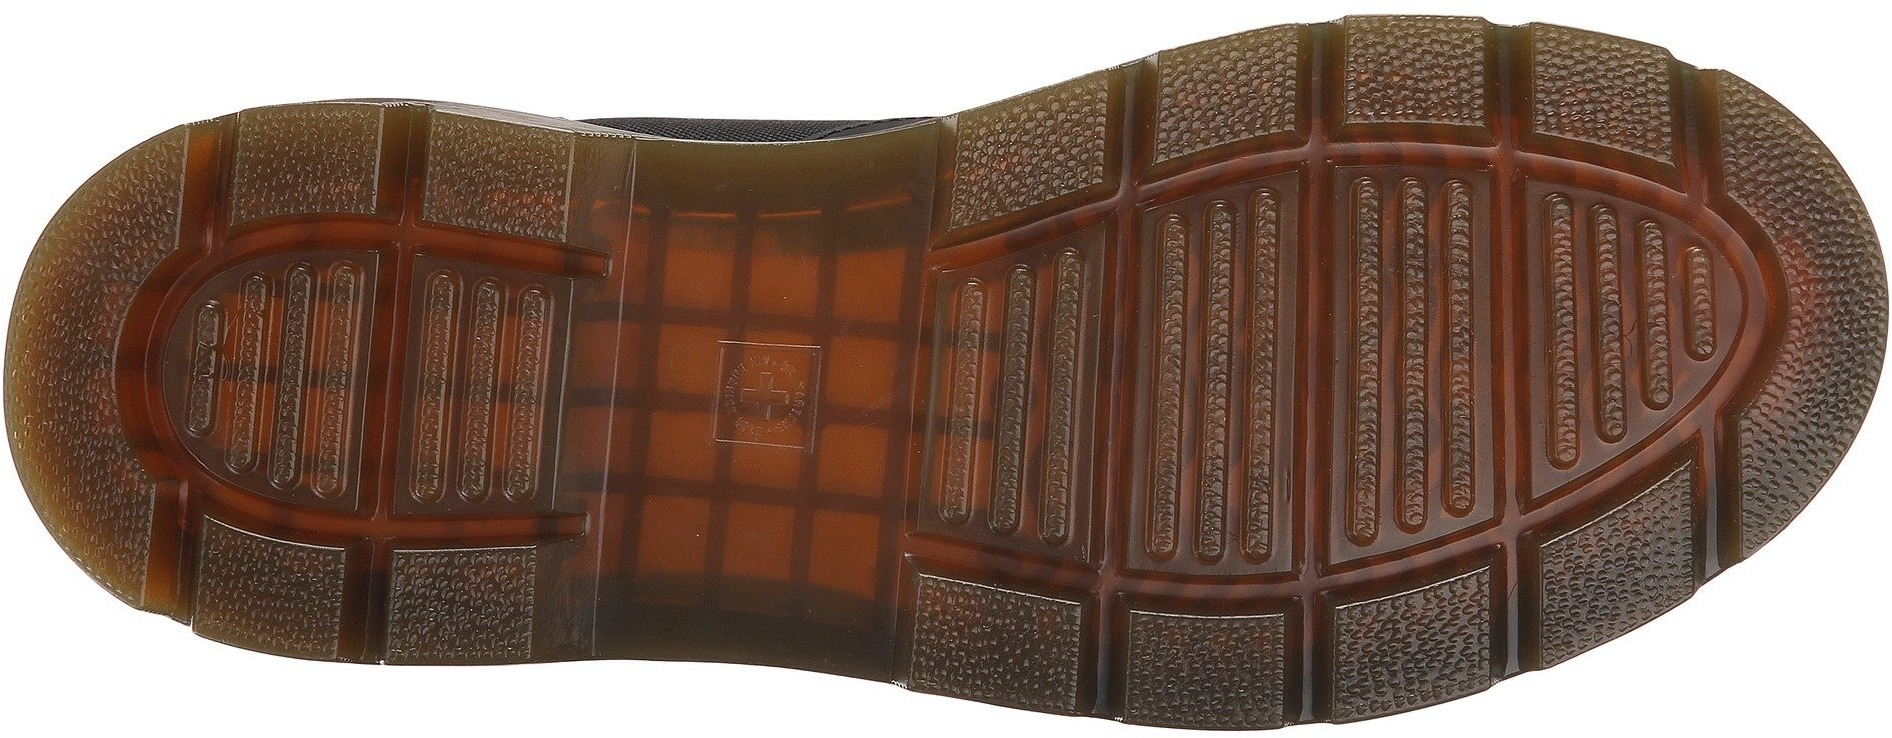line: (1514, 423, 1779, 685), (1531, 213, 1723, 402), (182, 286, 367, 463), (1329, 377, 1497, 547), (1330, 162, 1496, 326), (1131, 406, 1294, 569), (1135, 178, 1300, 335), (415, 253, 565, 398), (404, 392, 557, 533)
other: (1355, 16, 1468, 122), (399, 553, 512, 660), (948, 597, 1056, 702), (1363, 596, 1467, 701), (255, 107, 360, 206), (14, 309, 115, 410), (446, 130, 544, 225), (983, 99, 1085, 191), (224, 552, 321, 648), (1791, 266, 1884, 361)
quad: (1514, 423, 1779, 685), (1088, 572, 1308, 732), (925, 309, 1099, 484)
